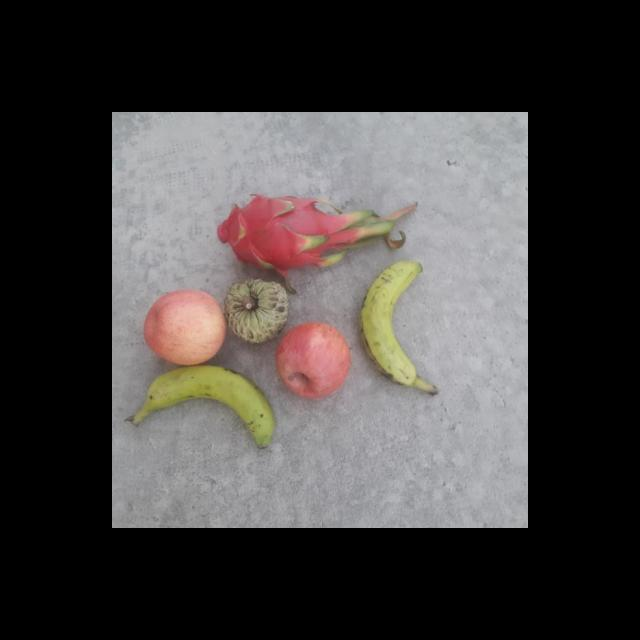Sakya fruit: (222, 277, 289, 345)
apple: (274, 317, 352, 400), (144, 287, 226, 362)
banana: (358, 260, 450, 398), (144, 367, 278, 452)
pitaya: (218, 194, 356, 278)
